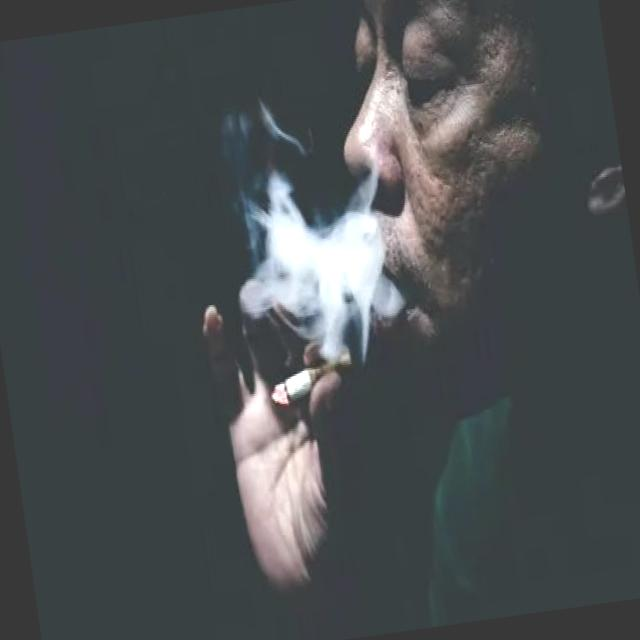smoke: (264, 349, 361, 414)
